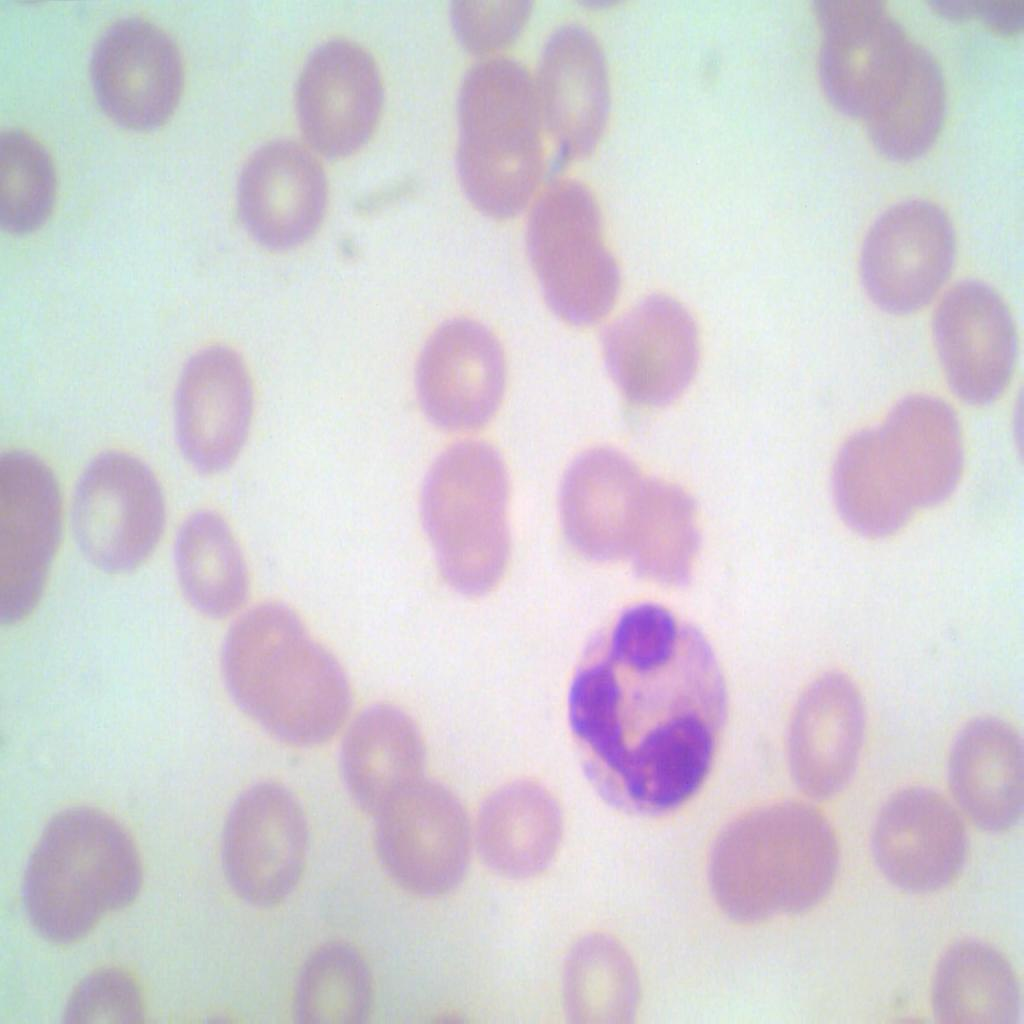Eritrosit: (14, 781, 144, 945), (68, 451, 174, 585), (851, 194, 962, 317), (598, 290, 709, 411), (208, 787, 318, 908), (86, 17, 190, 144), (291, 24, 391, 150), (164, 346, 255, 484), (406, 314, 514, 428), (858, 51, 958, 172), (223, 134, 328, 248), (470, 757, 568, 879), (868, 770, 964, 889), (383, 778, 475, 900), (793, 649, 866, 801), (874, 388, 966, 502), (219, 598, 314, 708), (933, 287, 1023, 402), (541, 29, 619, 158), (450, 124, 544, 228), (256, 639, 349, 744), (0, 124, 78, 247), (949, 721, 1023, 850), (924, 927, 1023, 1023), (176, 506, 255, 620), (709, 809, 781, 932), (351, 712, 434, 818), (556, 451, 638, 558), (762, 802, 844, 909), (622, 477, 698, 591), (818, 21, 913, 111), (0, 447, 69, 568), (284, 931, 373, 1023), (421, 441, 498, 547), (558, 927, 642, 1023), (454, 52, 536, 150), (550, 244, 633, 340), (834, 434, 903, 539), (522, 181, 604, 269), (443, 517, 522, 602)
Neutrofil: (561, 602, 724, 824)
